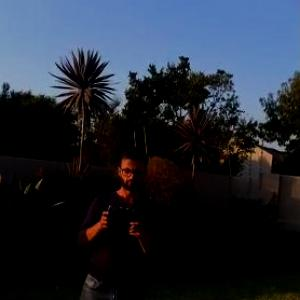follow: (72, 136, 169, 299)
